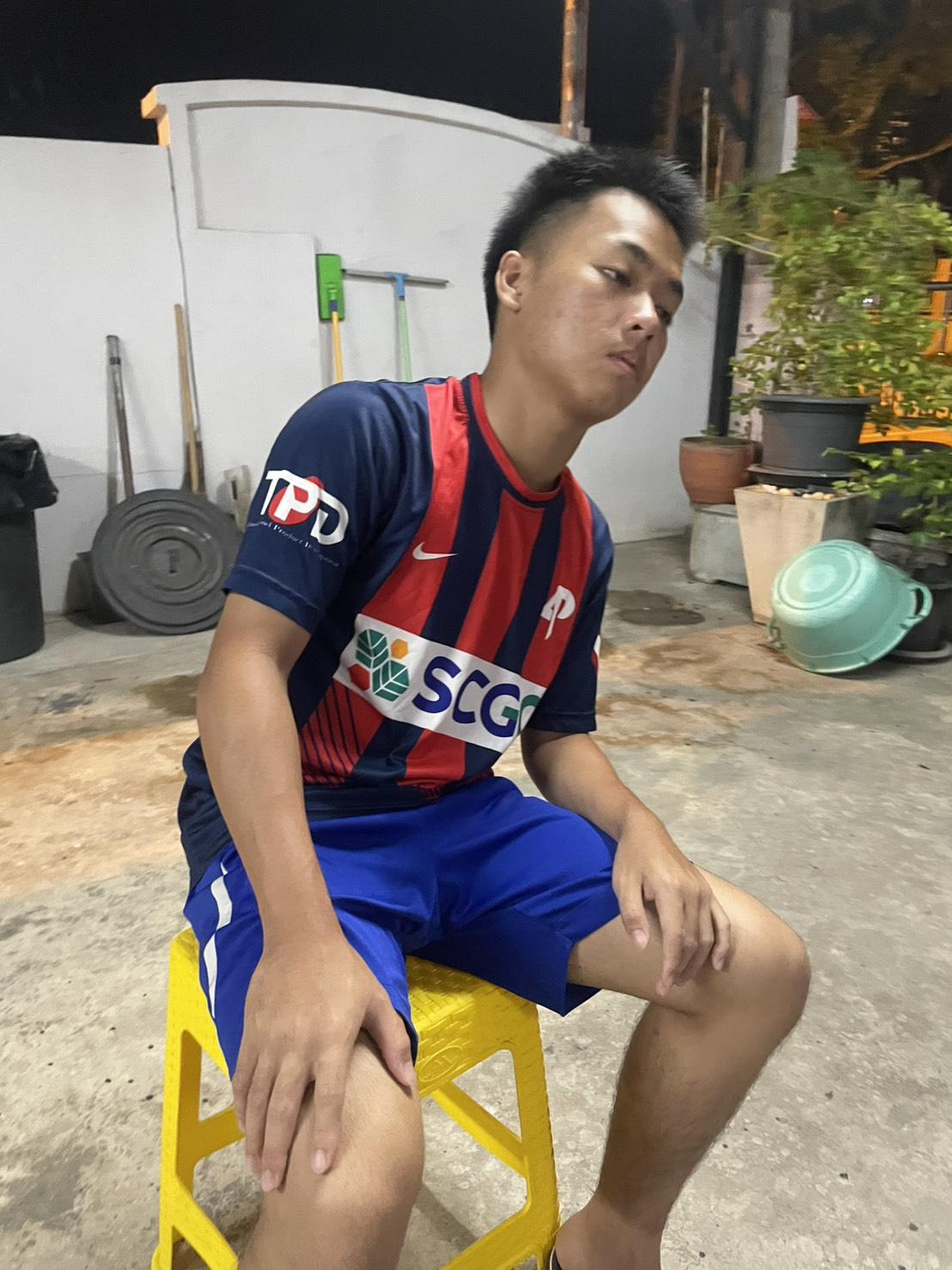BadPosture: (179, 147, 810, 1269)
